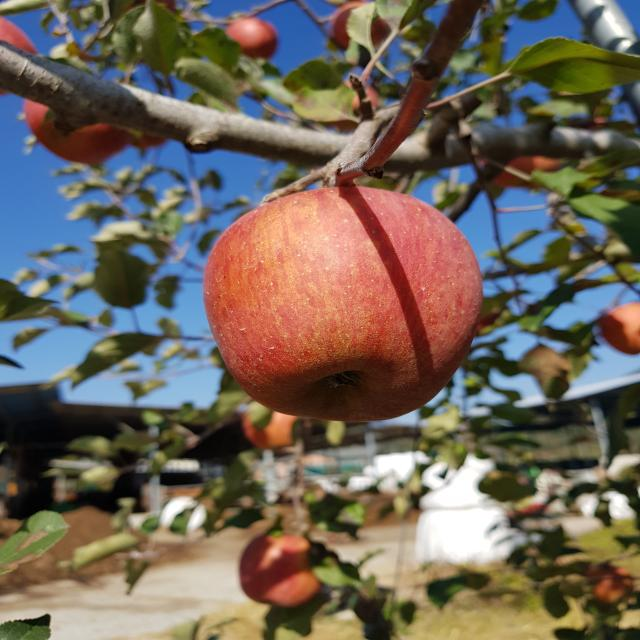fresh: (196, 178, 495, 429)
